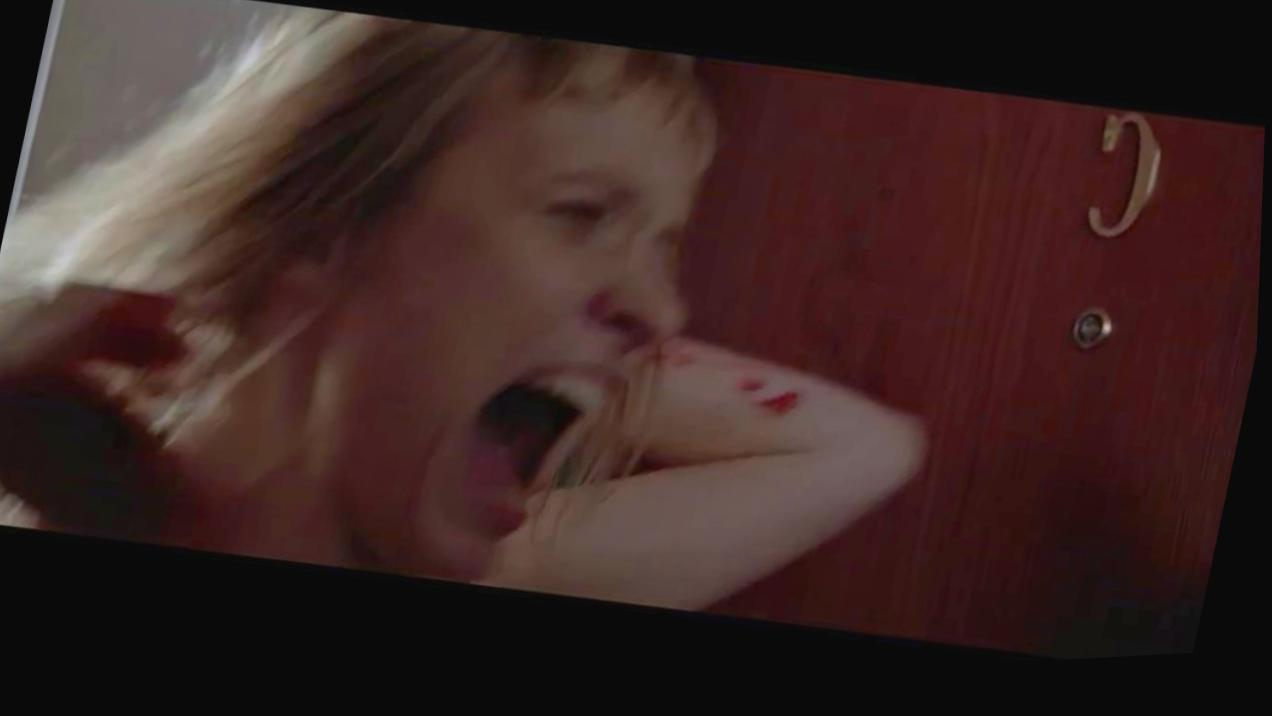Fire: (734, 365, 835, 424)
